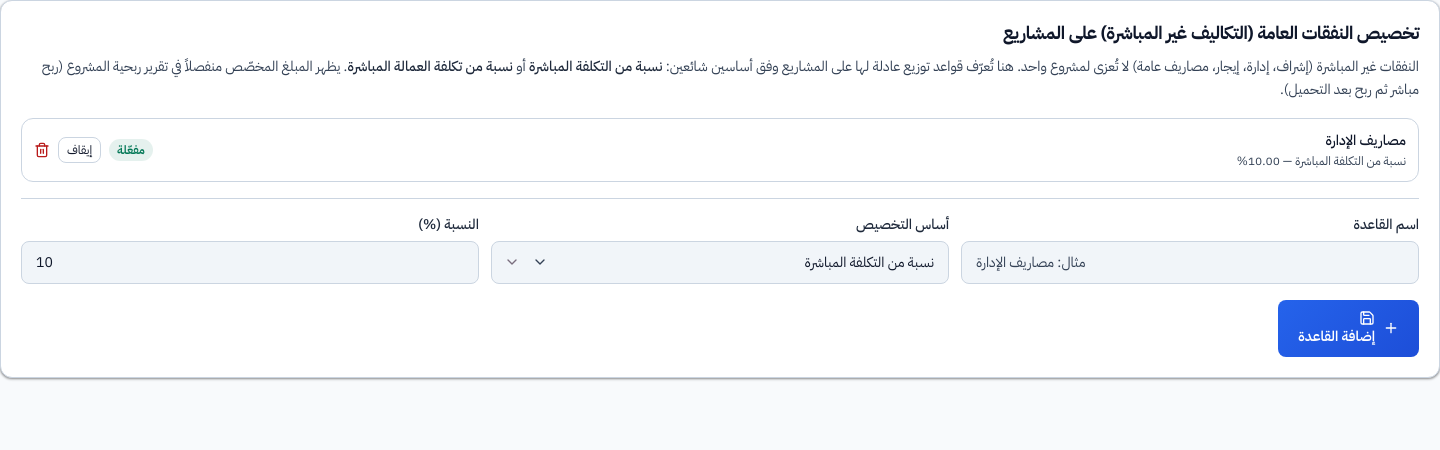
it: OverheadSettings › toggles a rule and deletes a rule
Expected: the text "مصاريف الإدارة" is shown, [1326,130,1406,151]
Click the button "إيقاف". click: (80, 150)
box: [58,137,101,163]
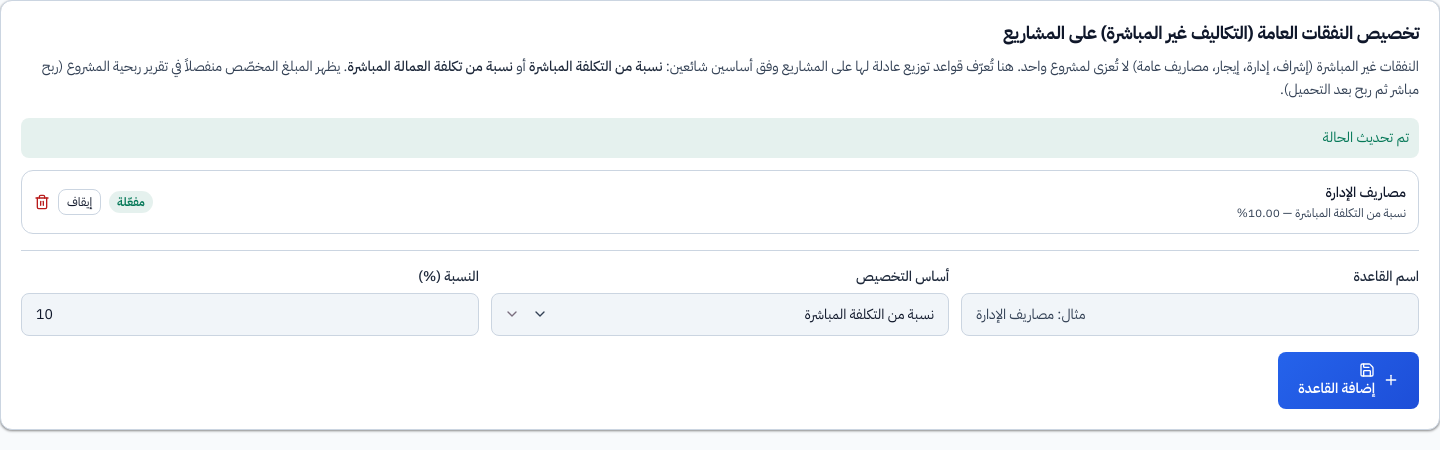
Result: the text "تم تحديث الحالة" is shown at [21,118,1419,158]
Click the button titled "حذف". click: (42, 202)
box: [34,194,50,210]
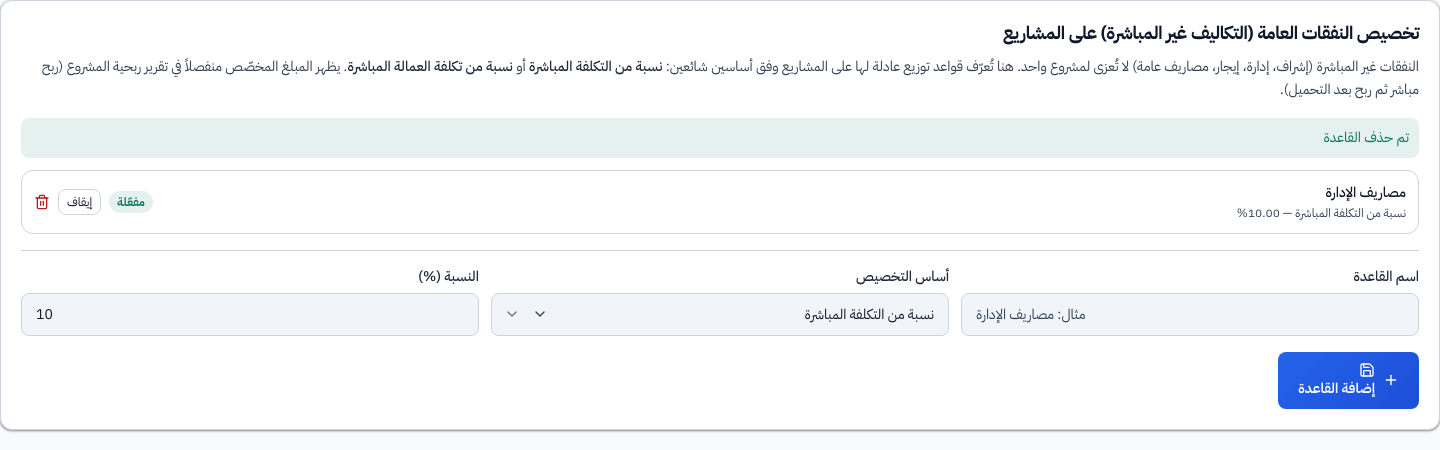
Result: the text "تم حذف القاعدة" is shown at [21,118,1419,158]
